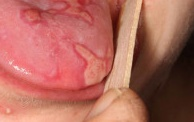SJS-TEN: (72, 35, 122, 92), (18, 0, 95, 27)
